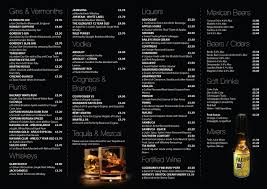not-coke: (80, 146, 138, 189)
